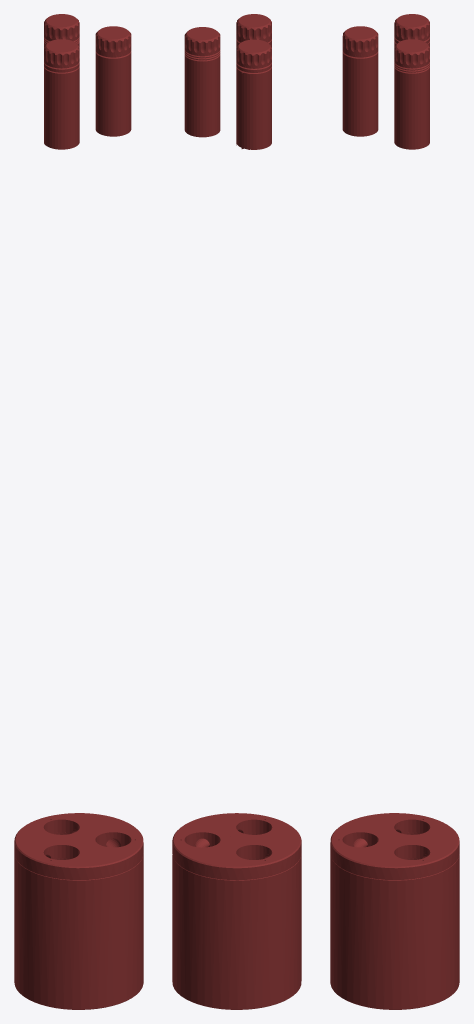
Rendered from puzzle final.fbx.
3 views of the same model, side by side, from view 1: azimuth 90°, elevation 25°; view 2: azimuth 150°, elevation 25°; view 3: azimuth 270°, elevation 25° (orthographic).
Parts seen in each view (by area): view 1: Body_Shape_IndexedFaceSet.052, Shape_IndexedFaceSet, Shape_IndexedFaceSet.026, Shape_IndexedFaceSet.006, Shape_IndexedFaceSet.008; view 2: Body_Shape_IndexedFaceSet.052, Shape_IndexedFaceSet, Shape_IndexedFaceSet.008, Shape_IndexedFaceSet.006, Shape_IndexedFaceSet.026; view 3: Body_Shape_IndexedFaceSet.052, Shape_IndexedFaceSet, Shape_IndexedFaceSet.026, Shape_IndexedFaceSet.008, Shape_IndexedFaceSet.006.
Part boxes in pixels (box(x1,y1,x2,y2)): Body_Shape_IndexedFaceSet.052: box(14, 854, 143, 1009); Shape_IndexedFaceSet: box(14, 813, 143, 879); Shape_IndexedFaceSet.026: box(95, 26, 131, 136); Shape_IndexedFaceSet.006: box(44, 39, 79, 149); Shape_IndexedFaceSet.008: box(44, 14, 79, 47); Body_Shape_IndexedFaceSet.052: box(172, 854, 301, 1009); Shape_IndexedFaceSet: box(172, 813, 301, 880); Shape_IndexedFaceSet.008: box(184, 27, 220, 137); Shape_IndexedFaceSet.006: box(236, 39, 271, 149); Shape_IndexedFaceSet.026: box(236, 14, 271, 47); Body_Shape_IndexedFaceSet.052: box(330, 854, 459, 1009); Shape_IndexedFaceSet: box(330, 813, 459, 879); Shape_IndexedFaceSet.026: box(342, 26, 378, 136); Shape_IndexedFaceSet.008: box(394, 39, 429, 149); Shape_IndexedFaceSet.006: box(394, 14, 429, 46).
Bounding box in the file's own units: 4.07 × 33.02 × 4.07.
